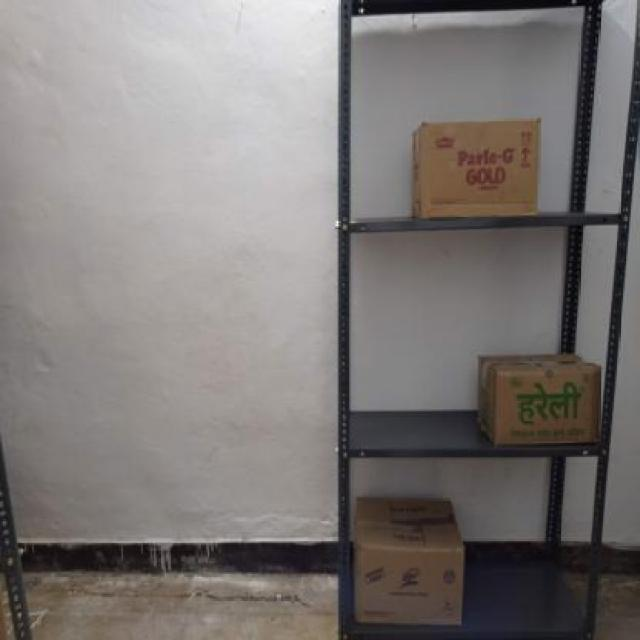box: (422, 123, 540, 220), (352, 543, 466, 623), (492, 366, 603, 448)
